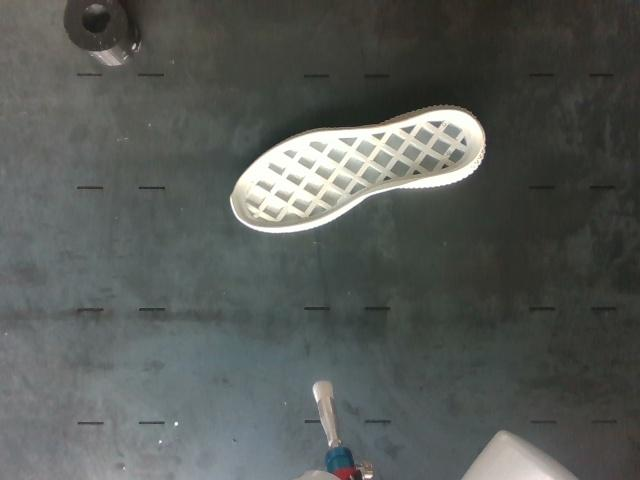shoes: (232, 108, 485, 229)
